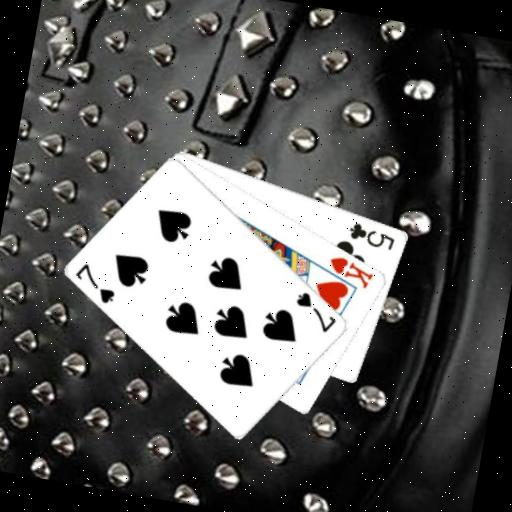5C: (345, 218, 399, 252)
7S: (289, 287, 343, 336), (68, 258, 122, 307)
KH: (323, 251, 378, 291)
